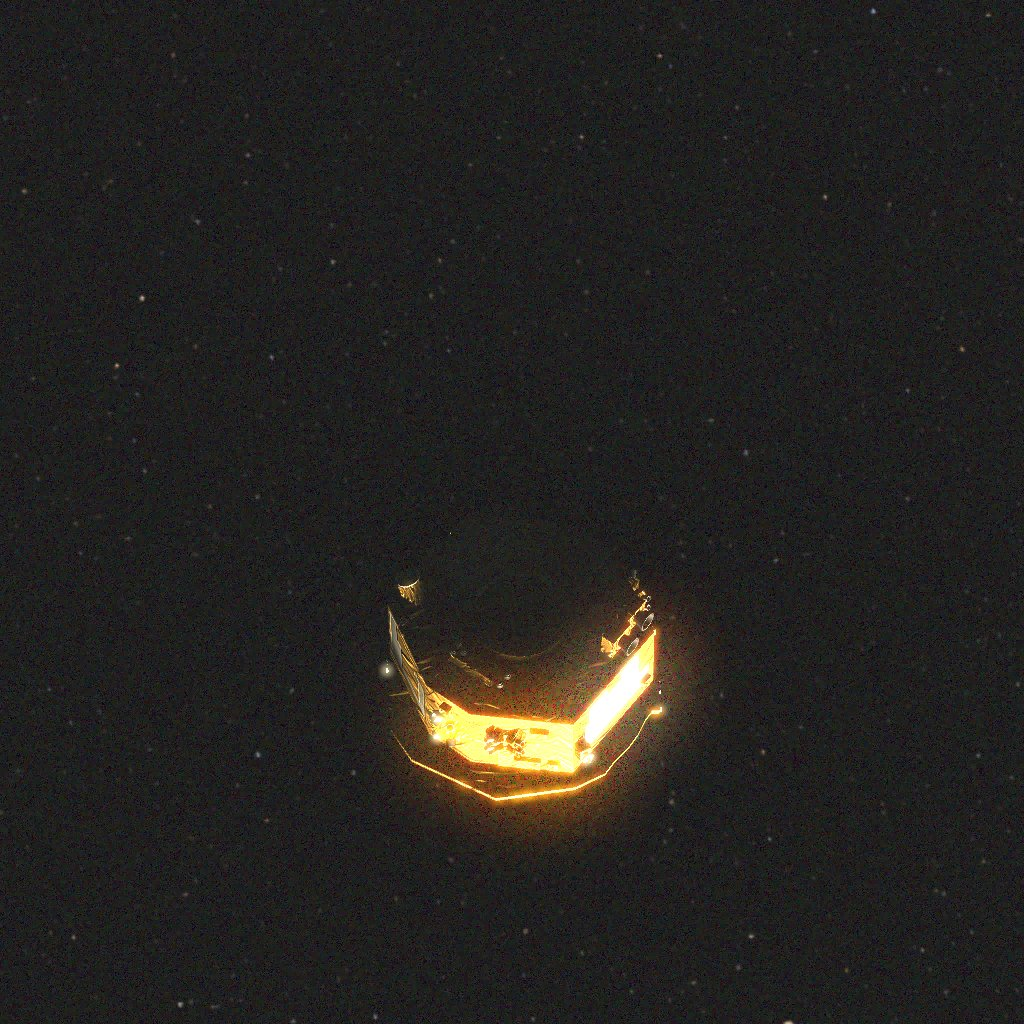lisa_pathfinder: (369, 477, 652, 775)
